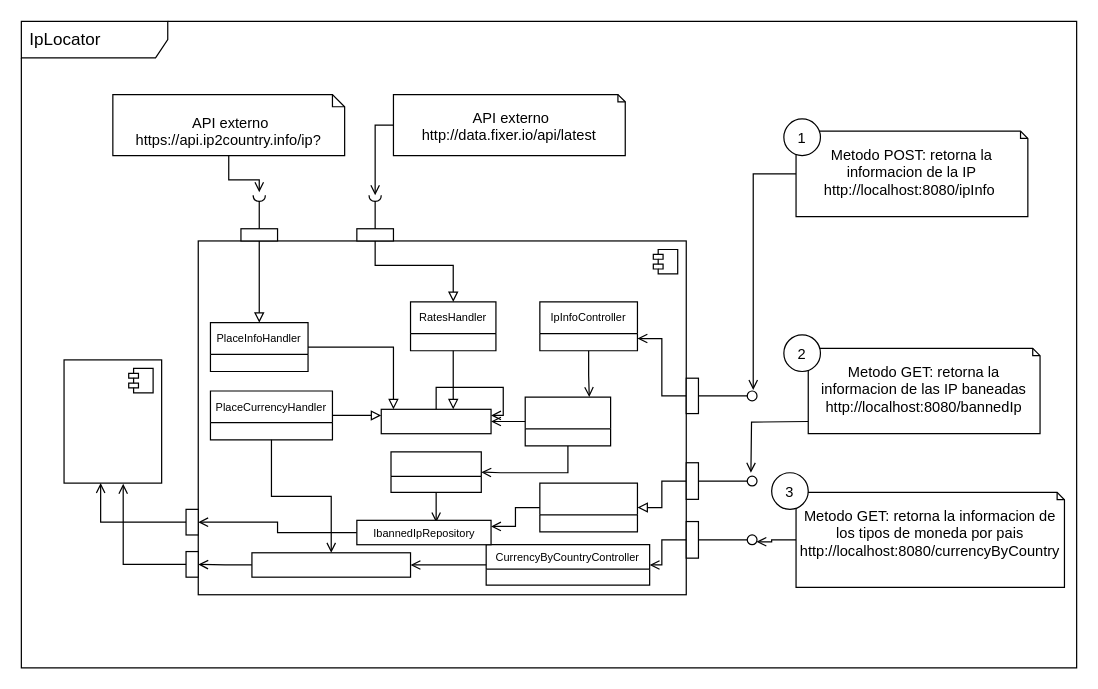
The diagram is 1098 pixels wide and 689 high, and some of its shapes have lost their labels. Each missing label, with the centre of its shape:
"BannedIpController" goes at (x=588, y=507).
"Database" goes at (x=112, y=421).
"ICurrencyByCountryRepository" goes at (x=331, y=564).
"IpProcessor" goes at (x=567, y=421).
"LocatorHandler" goes at (x=435, y=421).
"MainLocator" goes at (x=435, y=471).
